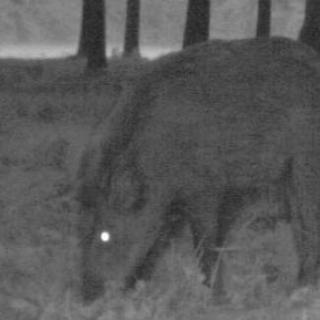Pig: (60, 11, 320, 303)
